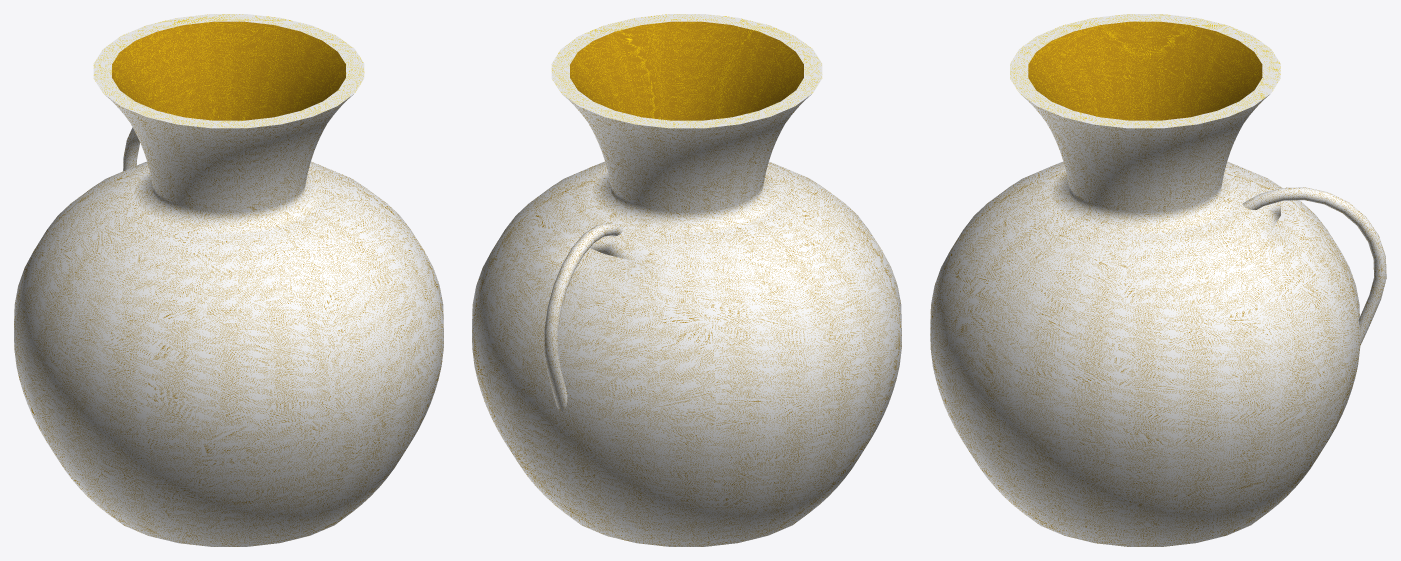
3 renders of one model, left to right at view 1: azimuth 30°, elevation 25°; view 2: azimuth 150°, elevation 25°; view 3: azimuth 270°, elevation 25°, orthographic.
Parts seen in each view (by area): view 1: mesh1_mesh1-geometry; view 2: mesh1_mesh1-geometry, mesh2_mesh2-geometry; view 3: mesh1_mesh1-geometry, mesh2_mesh2-geometry.
Part boxes in pixels (left/top/right/bottom): mesh1_mesh1-geometry: left=14, top=14, right=443, bottom=546; mesh1_mesh1-geometry: left=472, top=14, right=901, bottom=546; mesh2_mesh2-geometry: left=544, top=222, right=622, bottom=411; mesh1_mesh1-geometry: left=930, top=14, right=1360, bottom=546; mesh2_mesh2-geometry: left=1242, top=187, right=1386, bottom=345.
Size of the model in its own units: 0.5514 by 0.5945 by 0.5852.
